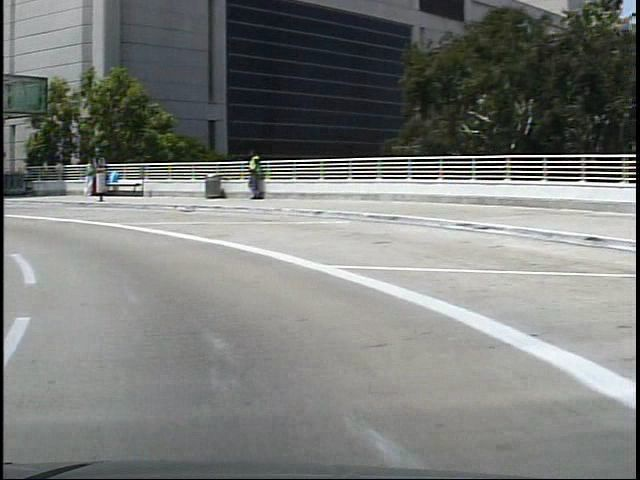person: (238, 145, 260, 202)
